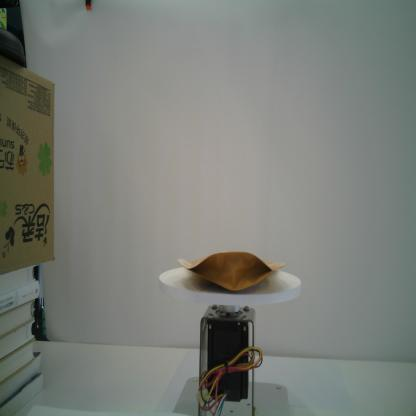Dried Fruit: (177, 250, 286, 292)
